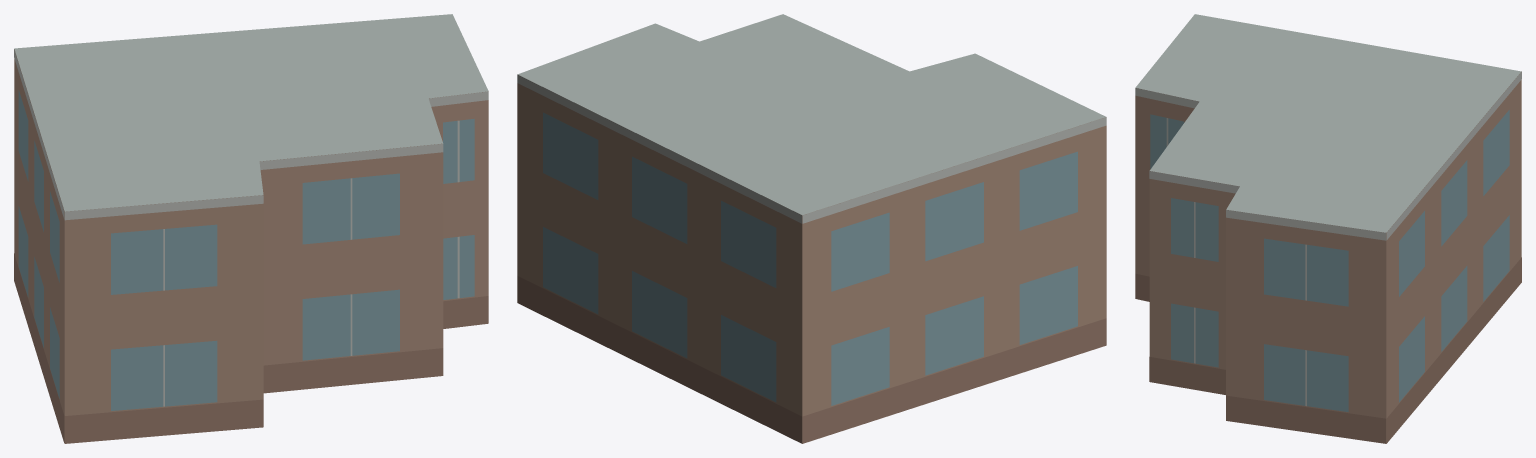
The model's file is survey-upis-32668910.glb.
The picture shows the model from 3 angles, left to right: view 1: azimuth 30°, elevation 25°; view 2: azimuth 150°, elevation 25°; view 3: azimuth 270°, elevation 25°; orthographic projection. The views are drawn at different scales.
Visible parts, largest first — view 1: survey-upis-32668910.tmp; view 2: survey-upis-32668910.tmp; view 3: survey-upis-32668910.tmp.
Boxes of the visible parts, box(x1,y1,x2,y2) form: survey-upis-32668910.tmp: box(14, 14, 488, 443); survey-upis-32668910.tmp: box(517, 14, 1106, 443); survey-upis-32668910.tmp: box(1135, 14, 1521, 443).
Size of the model in its own units: 14.46 by 6.5 by 10.79.
